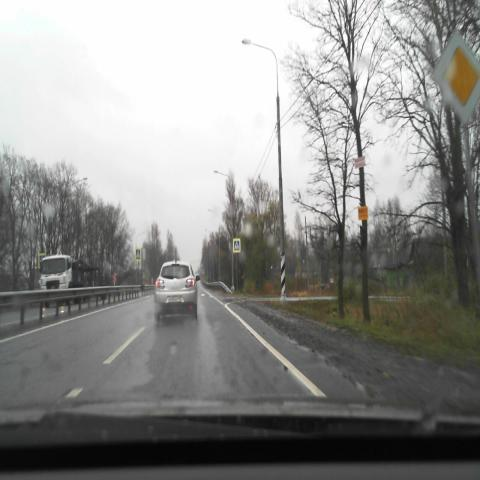2_1: (433, 29, 480, 125)
